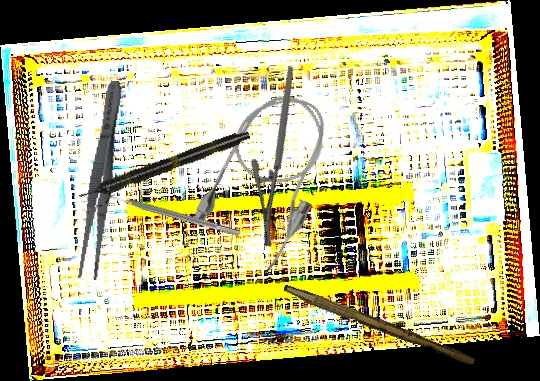Cannula: (186, 79, 352, 275)
Dressing Forceps: (74, 79, 129, 281)
Fixation Ring: (98, 185, 243, 245)
Handpiece: (76, 127, 252, 204)
Needle Holder: (209, 64, 350, 251)
Scalpel Handle: (280, 283, 478, 368)
